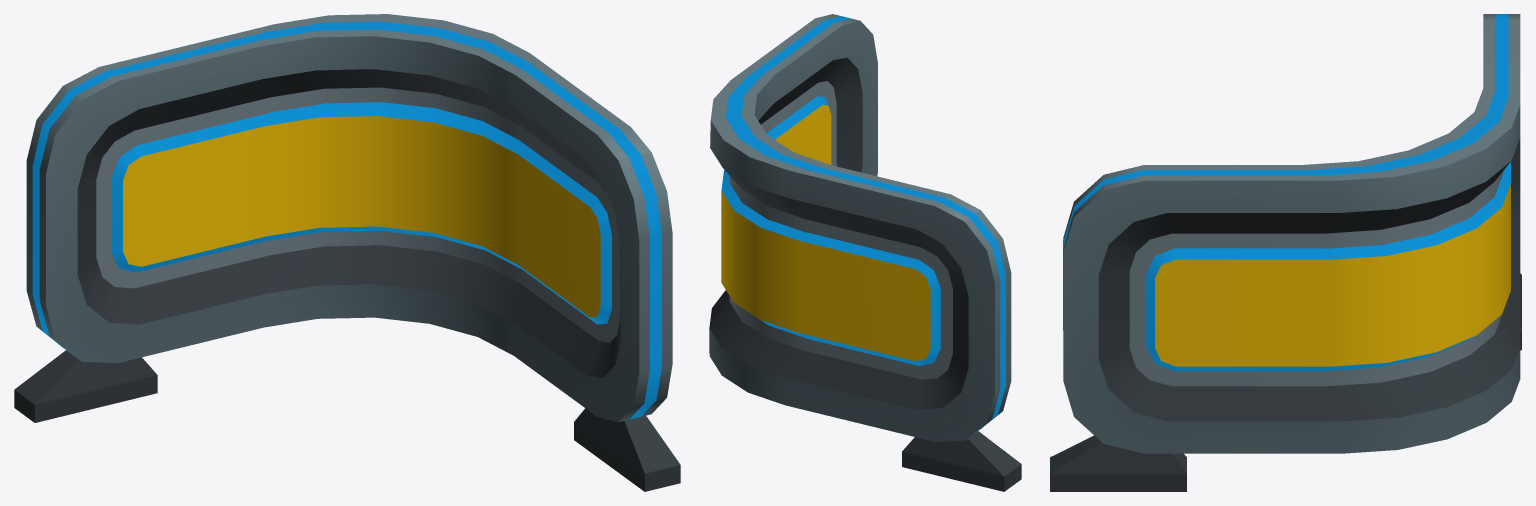
Rendered from Fence_type_C_015.glb.
3 views of the same model, side by side, from view 1: azimuth 30°, elevation 25°; view 2: azimuth 150°, elevation 25°; view 3: azimuth 270°, elevation 25° (orthographic). The views are drawn at different scales.
Visible parts, largest first — view 1: Fence_type_C_015; view 2: Fence_type_C_015; view 3: Fence_type_C_015.
Boxes of the visible parts, <box> form: Fence_type_C_015: <box>14,14,680,491</box>; Fence_type_C_015: <box>709,14,1021,491</box>; Fence_type_C_015: <box>1050,14,1521,491</box>.
Bounding box in the file's own units: 1.95 × 1.41 × 1.94.
Materials: 2 (2 with a texture image).
